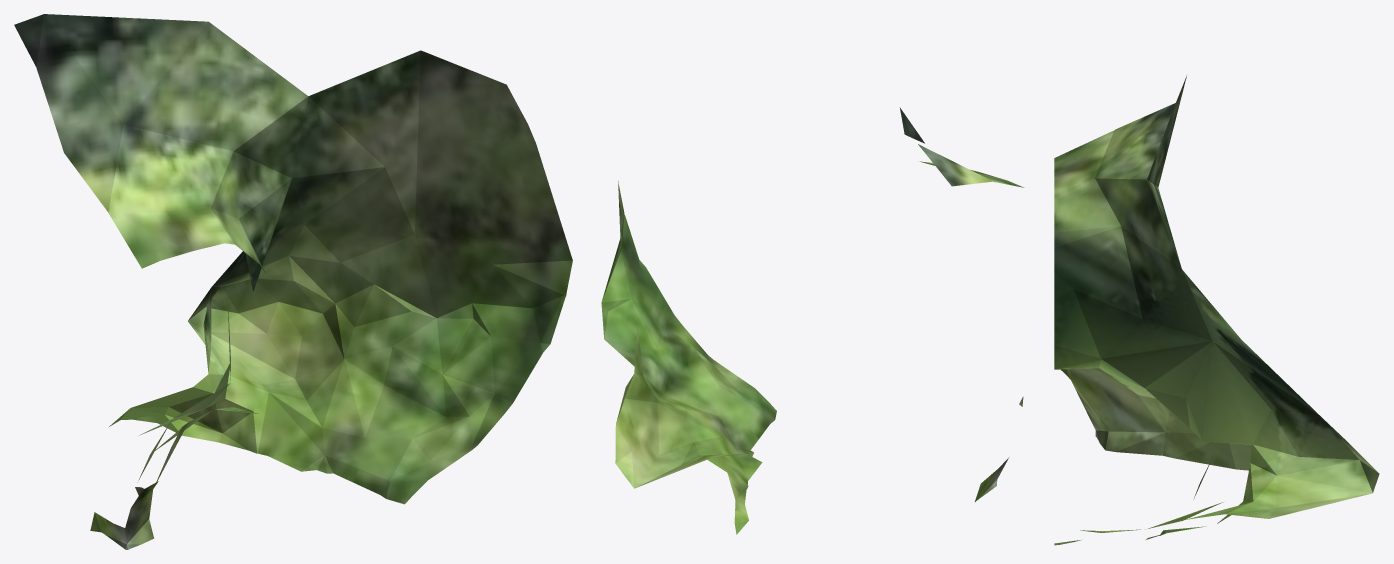
The picture shows the model from 3 angles, left to right: view 1: azimuth 30°, elevation 25°; view 2: azimuth 150°, elevation 25°; view 3: azimuth 270°, elevation 25°; orthographic projection. The views are drawn at different scales.
Size of the model in its own units: 10.56 by 10.91 by 7.54.
Materials: 1 (1 with a texture image).
